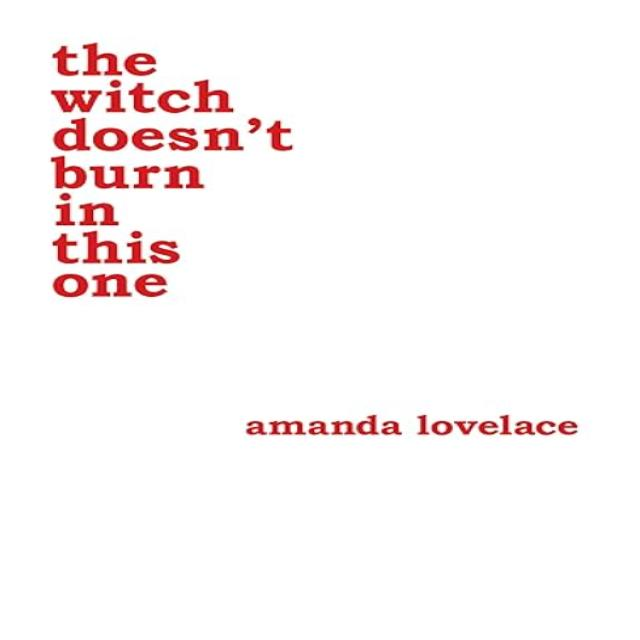titles-or-authors: (38, 36, 310, 312), (231, 409, 589, 449)
